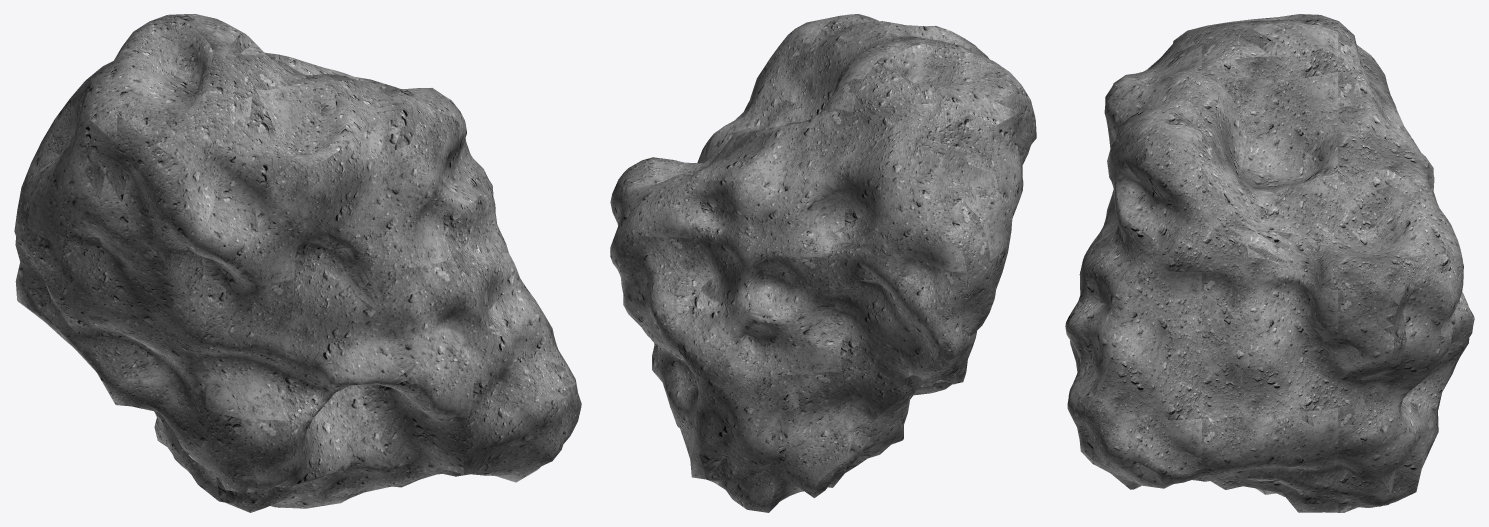
Rendered from Asteroid3.obj.
3 renders of one model, left to right at view 1: azimuth 30°, elevation 25°; view 2: azimuth 150°, elevation 25°; view 3: azimuth 270°, elevation 25°, orthographic. The views are drawn at different scales.
Visible parts, largest first — view 1: default; view 2: default; view 3: default.
Part boxes in pixels (box(x1,y1,x2,y2)): default: box(14, 14, 581, 512); default: box(610, 14, 1036, 512); default: box(1065, 14, 1474, 512).
Size of the model in its own units: 62.61 by 71.31 by 59.92.
Materials: 1 (1 with a texture image).
